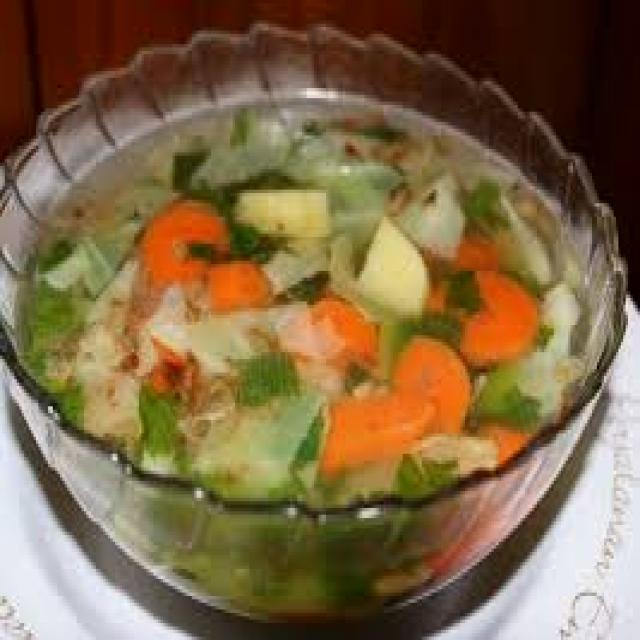sop: (10, 98, 597, 511)
